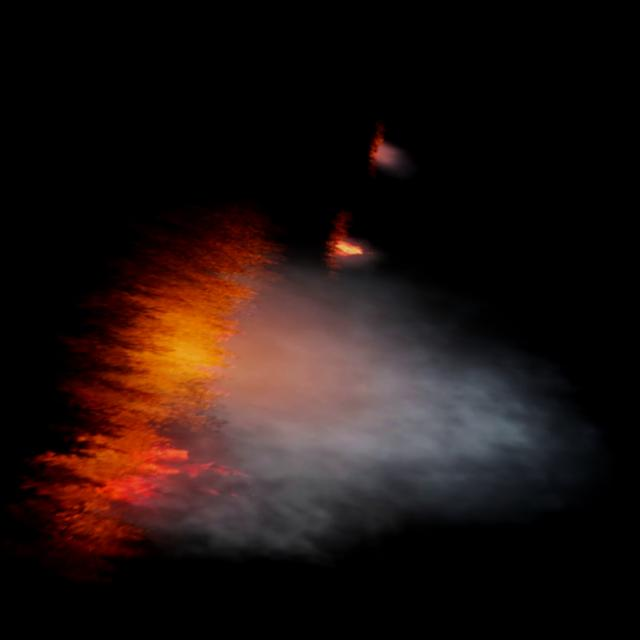fire: (26, 179, 314, 606), (324, 235, 364, 265)
smoke: (107, 206, 639, 640), (365, 139, 416, 184)
